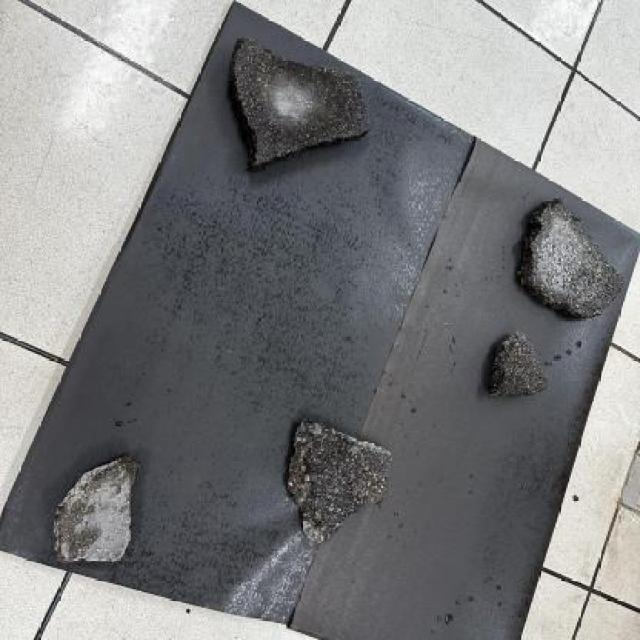Road Debris: (52, 464, 108, 552), (324, 444, 388, 520), (303, 74, 368, 142), (560, 249, 622, 317), (497, 340, 545, 397)
